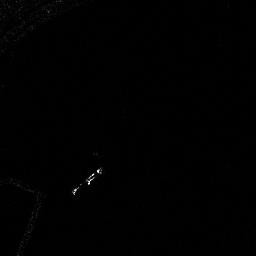ship: (72, 166, 102, 194)
